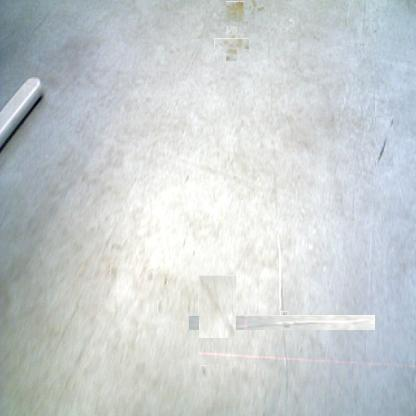liquid: (231, 272, 332, 373), (220, 32, 243, 55), (226, 1, 244, 22), (248, 2, 260, 16)
mark: (198, 275, 236, 338), (375, 116, 393, 166), (280, 311, 288, 322), (146, 270, 153, 282), (201, 365, 207, 378), (162, 274, 168, 286), (157, 299, 162, 313), (372, 27, 376, 35)
